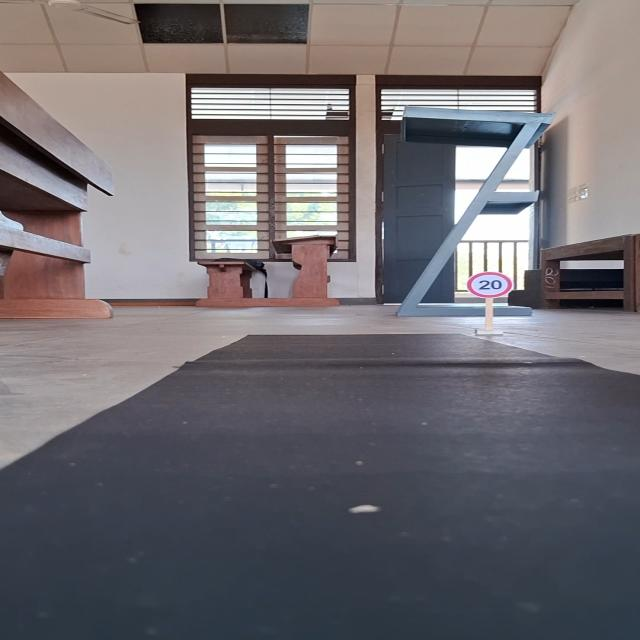Speed20: (464, 270, 516, 299)
